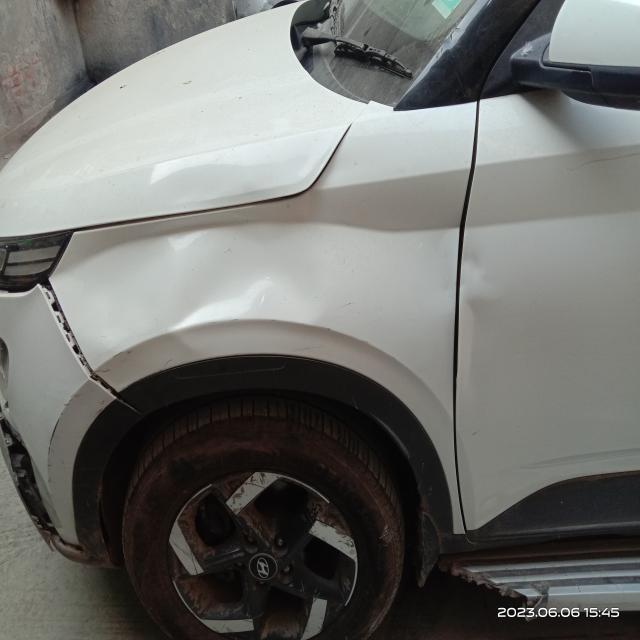damage: (157, 217, 440, 377), (146, 152, 307, 206), (0, 409, 57, 547), (26, 281, 96, 378), (454, 237, 490, 389), (43, 408, 63, 489)
